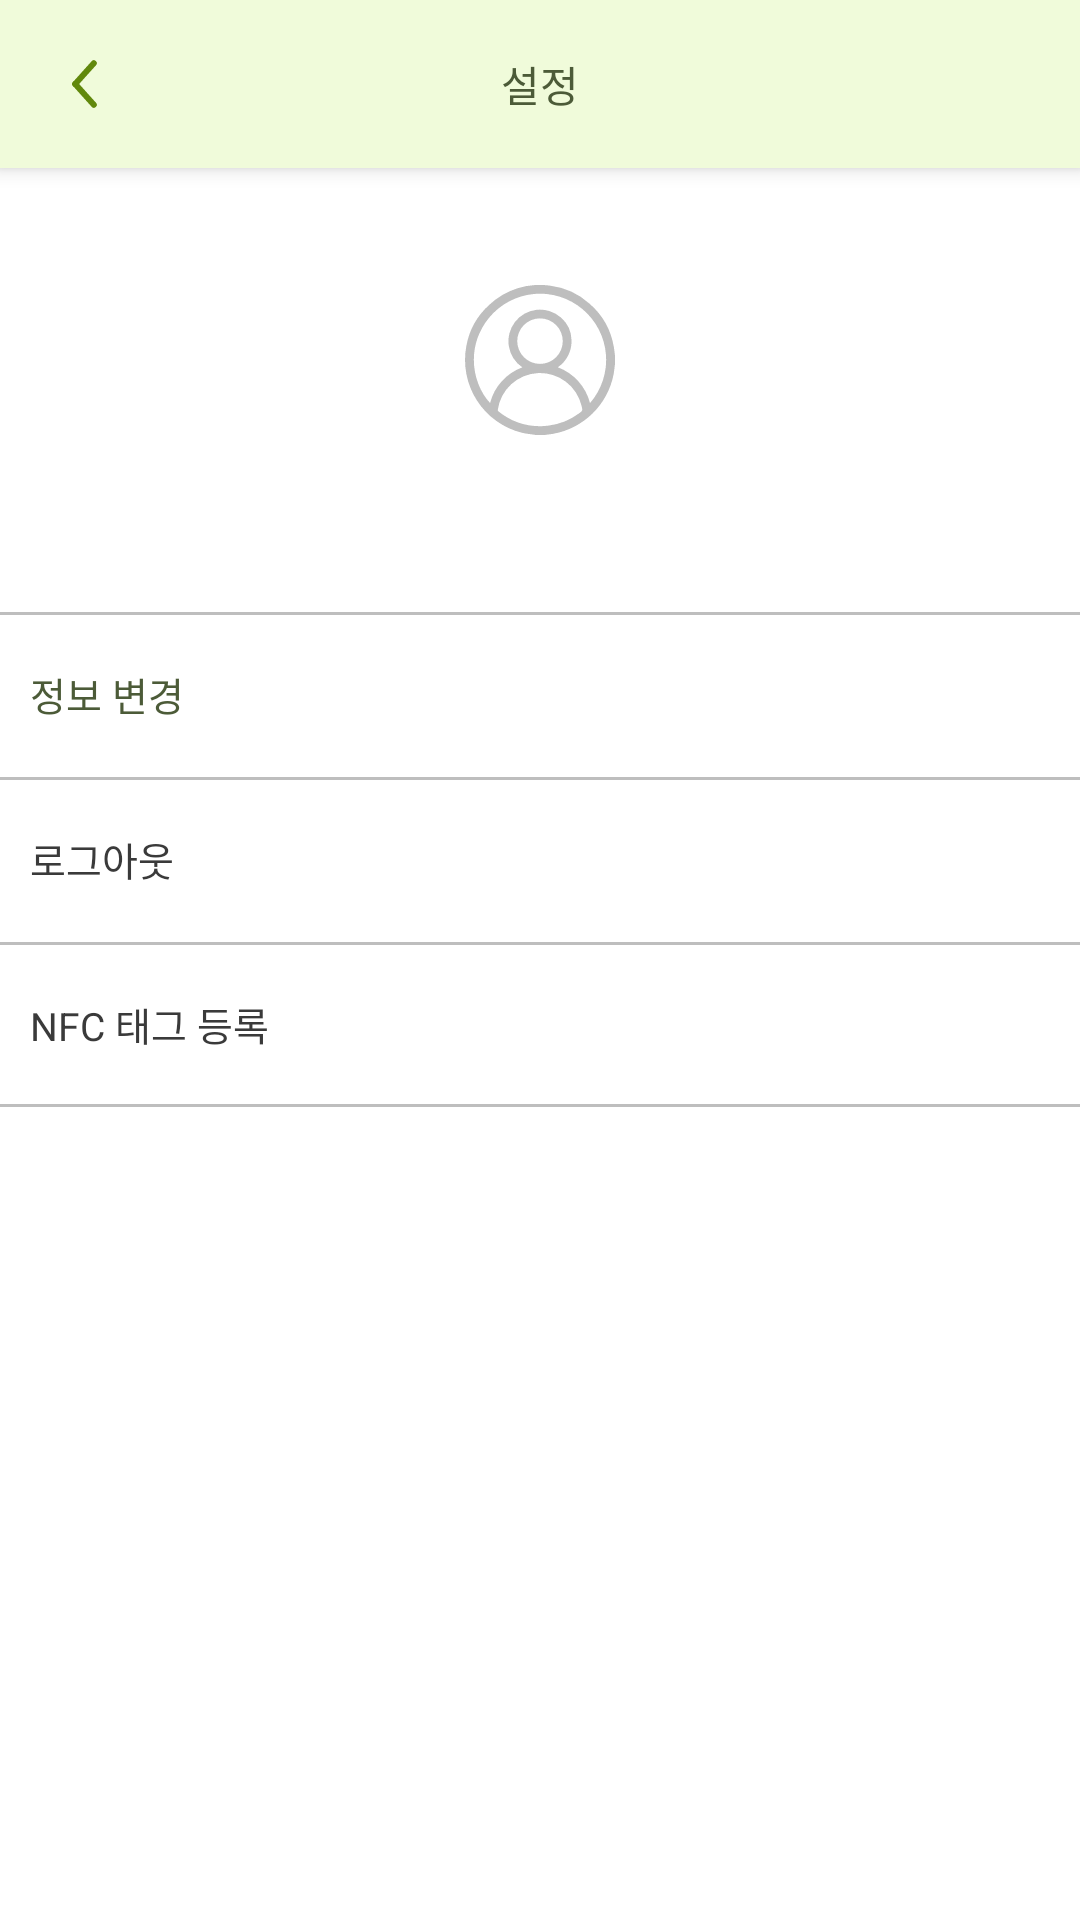

Point at icon controls on the screen. Image size 1080x1920, points as (x,y).
profile: (540,360)
